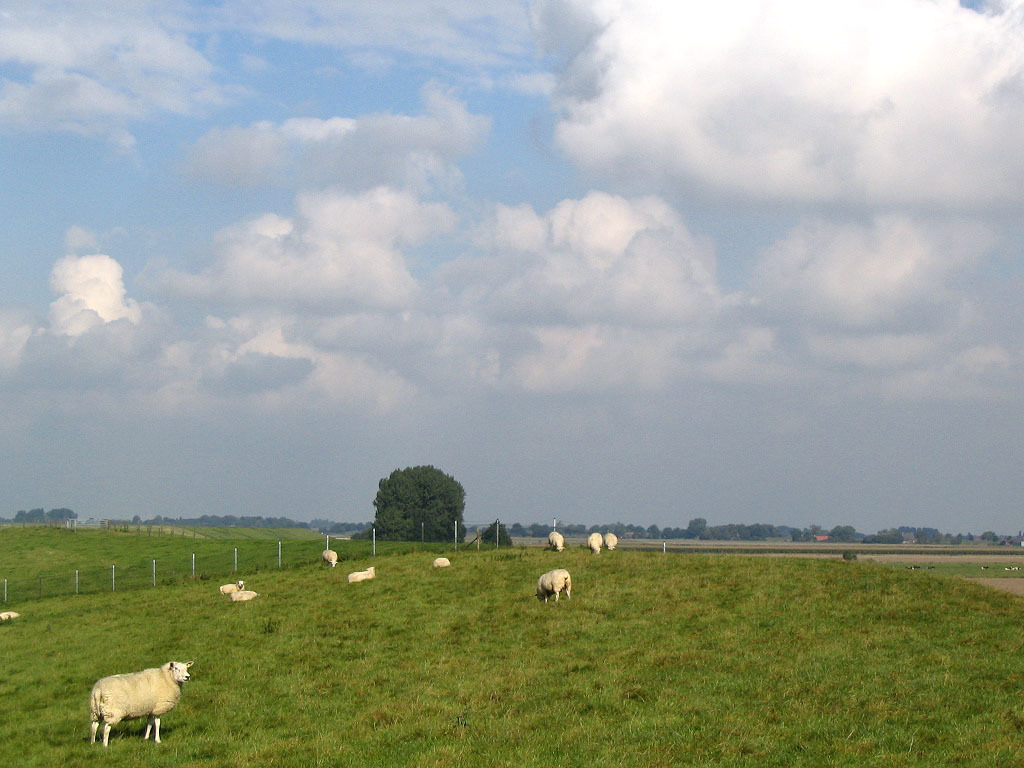sheep: (90, 661, 193, 745), (533, 567, 574, 607), (350, 564, 375, 586), (545, 528, 561, 548), (586, 528, 602, 548), (229, 588, 252, 600), (602, 531, 615, 552), (320, 551, 336, 564), (432, 559, 451, 565)
